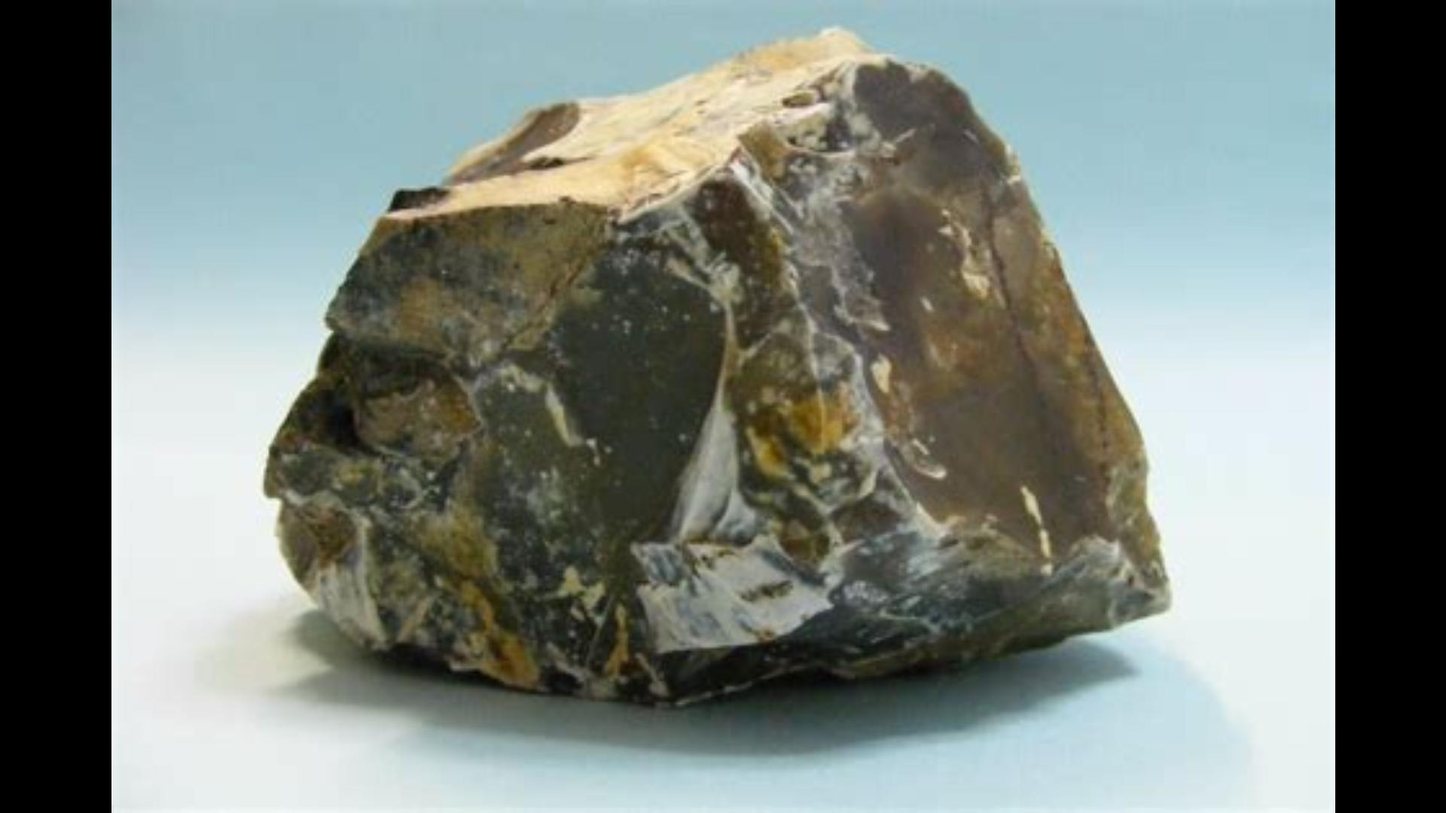rock: (266, 31, 1167, 699)
